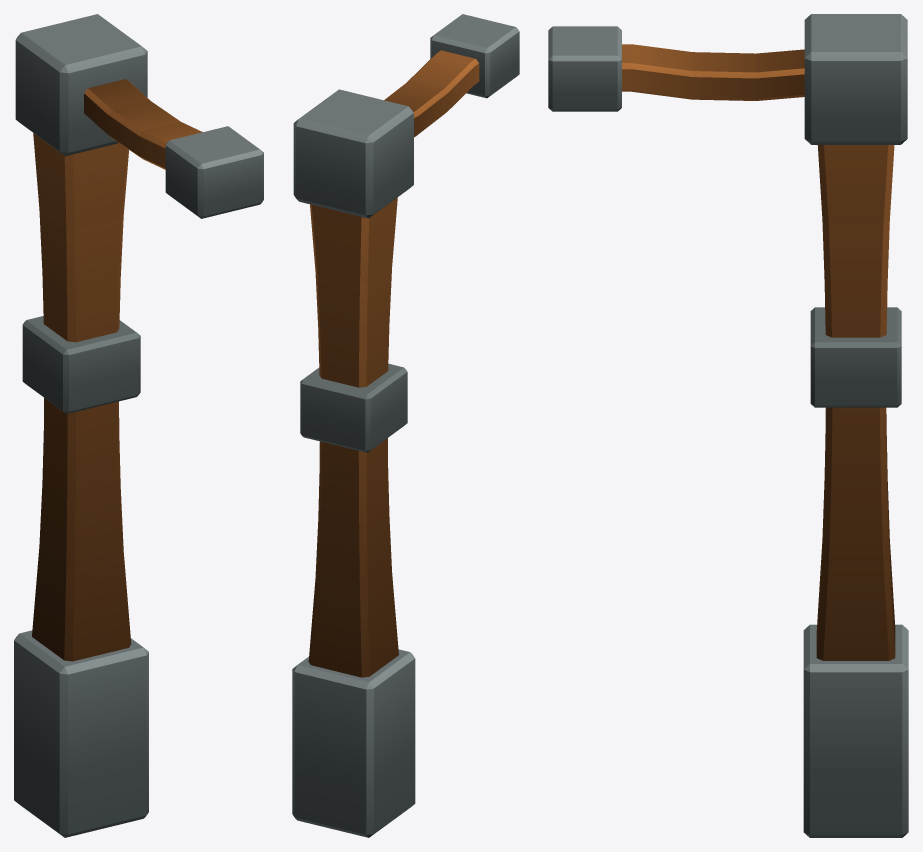
The model's file is Poste-1.fbx.
3 renders of one model, left to right at view 1: azimuth 30°, elevation 25°; view 2: azimuth 150°, elevation 25°; view 3: azimuth 270°, elevation 25°, orthographic. The views are drawn at different scales.
Parts seen in each view (by area): view 1: Poste-1; view 2: Poste-1; view 3: Poste-1.
Boxes of the visible parts, x1,y1,x2,y2 form: Poste-1: (14,14,263,837); Poste-1: (292,14,519,837); Poste-1: (548,14,908,837).
Size of the model in its own units: 54.92 by 453 by 188.
